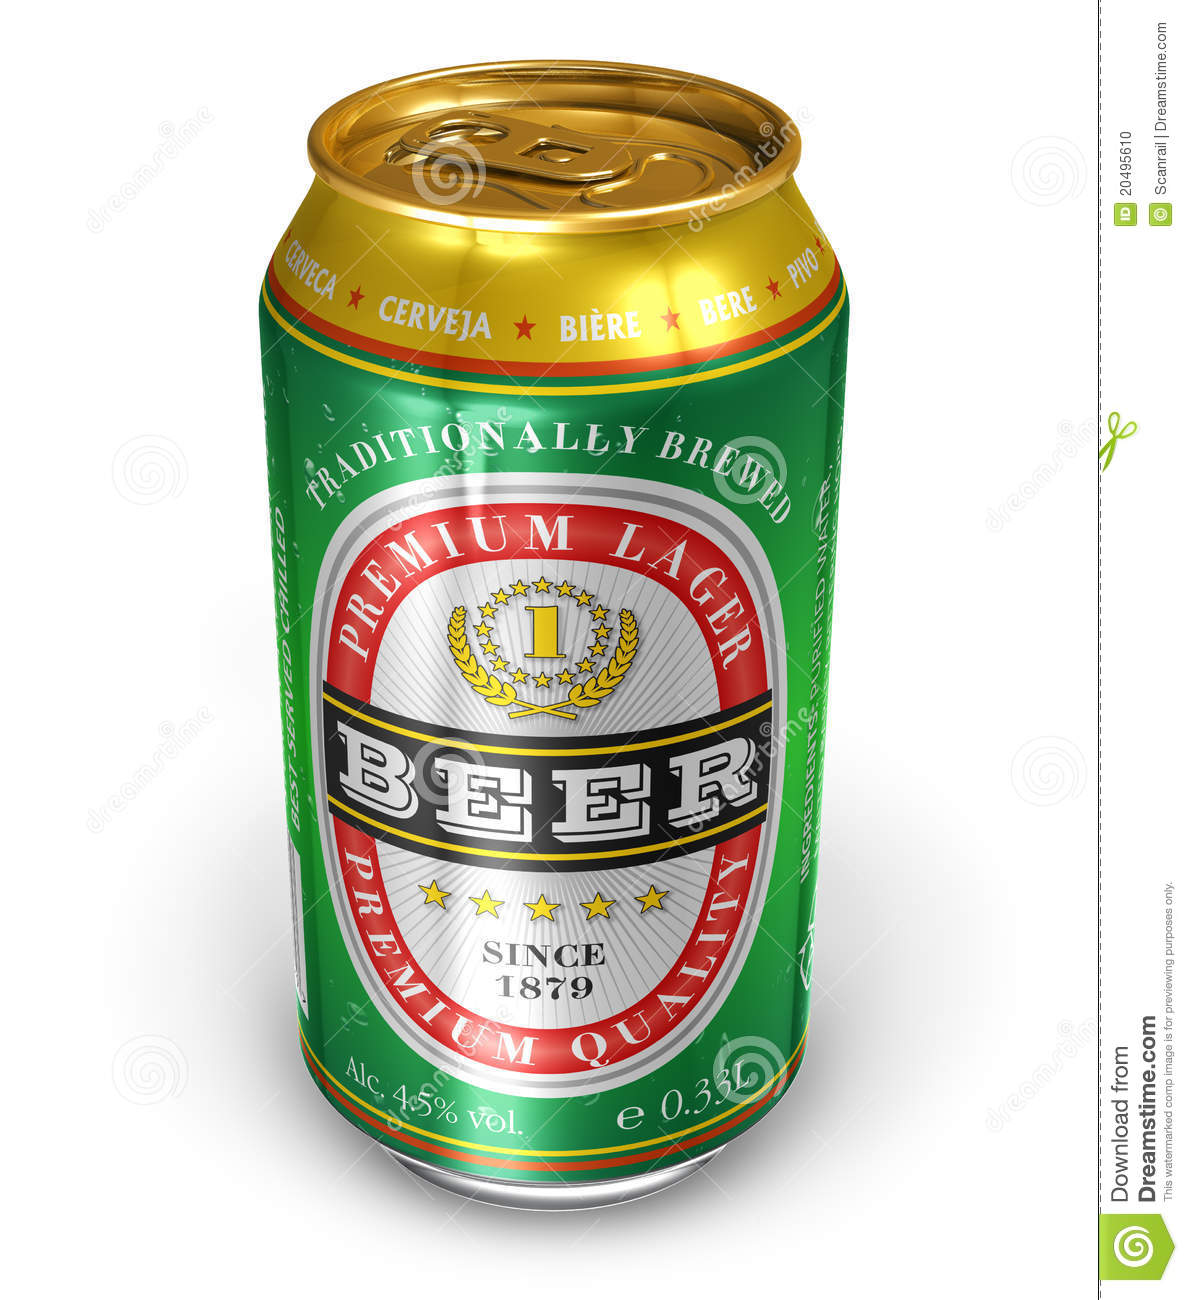beer can: (262, 59, 853, 1218)
